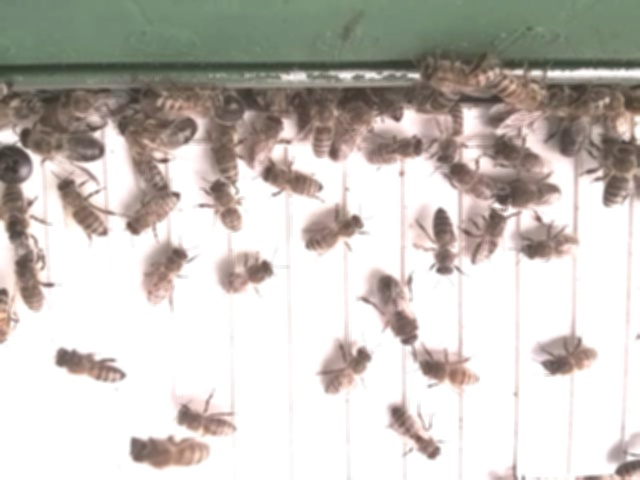Drone: (325, 95, 382, 165), (374, 274, 422, 349), (16, 128, 106, 167), (118, 115, 200, 154), (491, 178, 566, 212), (557, 97, 589, 164)
Worker: (58, 182, 110, 241), (390, 405, 443, 462), (146, 245, 190, 310), (304, 211, 368, 255), (125, 190, 183, 238), (600, 142, 638, 212), (132, 438, 214, 470), (324, 347, 372, 400), (482, 75, 550, 112), (469, 211, 510, 268), (62, 352, 130, 386), (218, 259, 278, 297), (264, 167, 326, 203), (362, 135, 426, 169), (248, 113, 286, 170), (540, 345, 601, 380), (0, 184, 33, 248), (447, 163, 498, 204), (206, 123, 240, 184), (421, 359, 482, 393), (492, 140, 548, 177), (178, 407, 239, 440), (431, 207, 459, 278), (15, 254, 48, 314), (438, 101, 466, 169), (212, 185, 246, 235), (526, 233, 580, 264), (308, 99, 334, 160), (0, 289, 14, 348)
